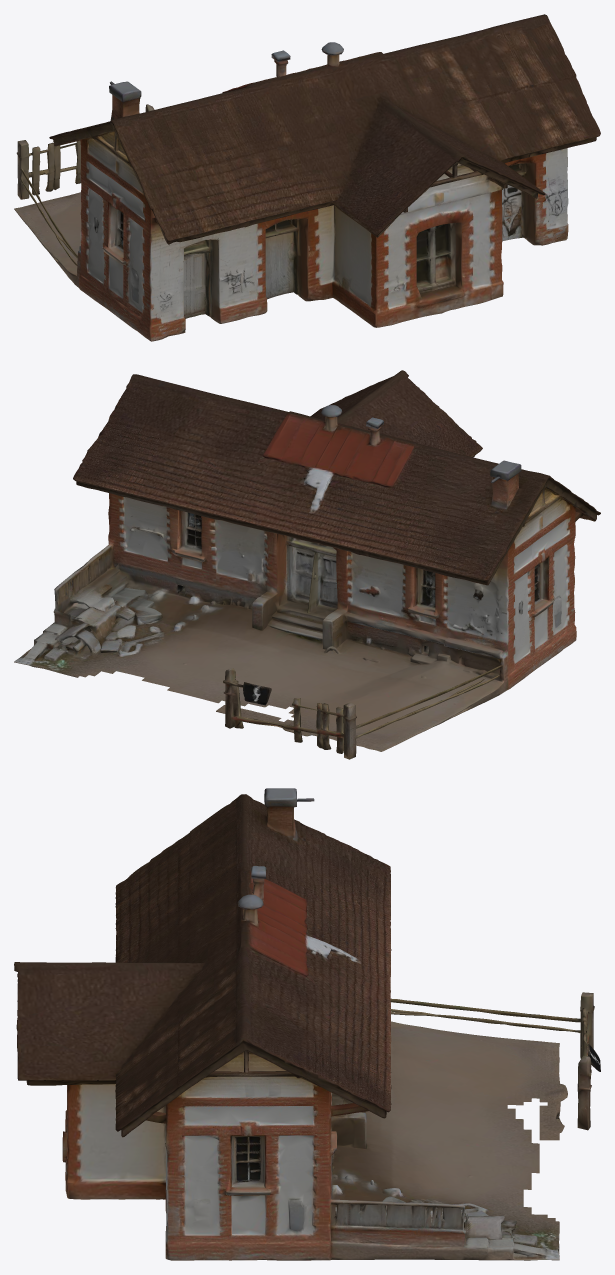
Rendered from abandoned brick building 3d model.glb.
3 views of the same model, one above another, from view 1: azimuth 30°, elevation 25°; view 2: azimuth 150°, elevation 25°; view 3: azimuth 270°, elevation 25° (orthographic). The views are drawn at different scales.
Visible parts, largest first — view 1: tripo_node_607dfb3c-29ce-4a17-82b0-824651f649f0; view 2: tripo_node_607dfb3c-29ce-4a17-82b0-824651f649f0; view 3: tripo_node_607dfb3c-29ce-4a17-82b0-824651f649f0.
Part boxes in pixels (bbox=[...]): tripo_node_607dfb3c-29ce-4a17-82b0-824651f649f0: bbox=[14, 14, 600, 341]; tripo_node_607dfb3c-29ce-4a17-82b0-824651f649f0: bbox=[14, 370, 600, 759]; tripo_node_607dfb3c-29ce-4a17-82b0-824651f649f0: bbox=[14, 788, 600, 1260].
Size of the model in its own units: 0.9965 by 0.4792 by 1.
1 material, 1 textured.
